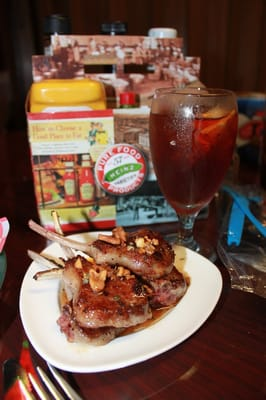curry: (0, 62, 264, 400)
sandwich: (149, 86, 239, 257)
